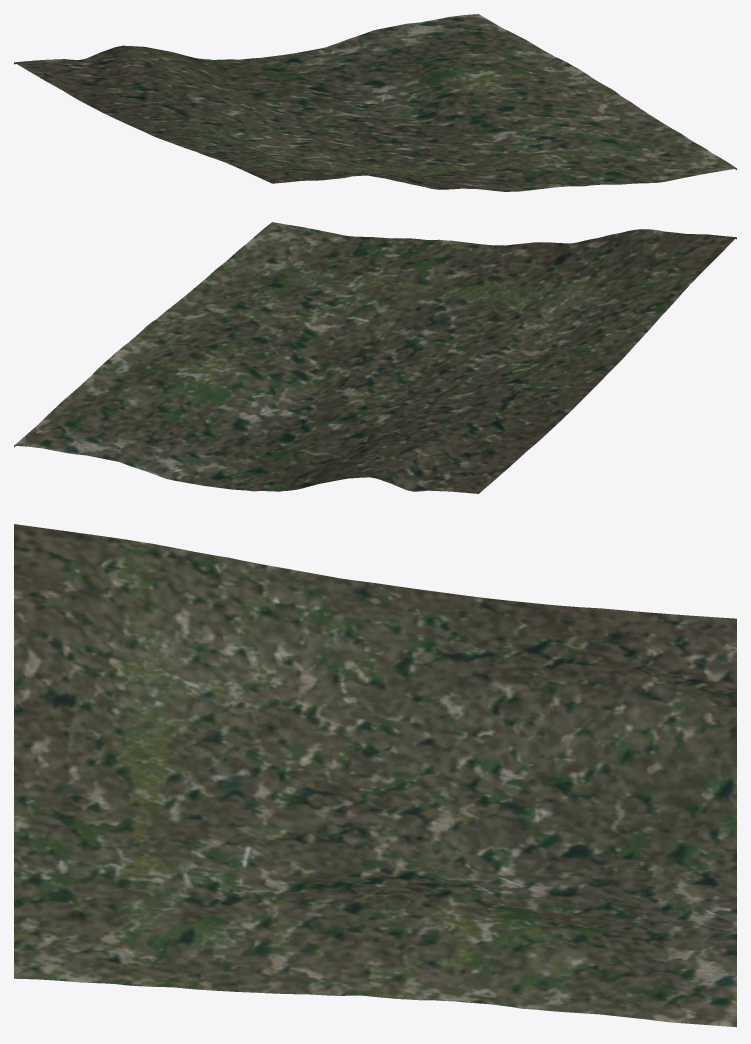
3 views of the same model, one above another, from view 1: azimuth 30°, elevation 25°; view 2: azimuth 150°, elevation 25°; view 3: azimuth 270°, elevation 25° (orthographic). The views are drawn at different scales.
Bounding box in the file's own units: 250 × 69.26 × 241.
1 material, 1 textured.
